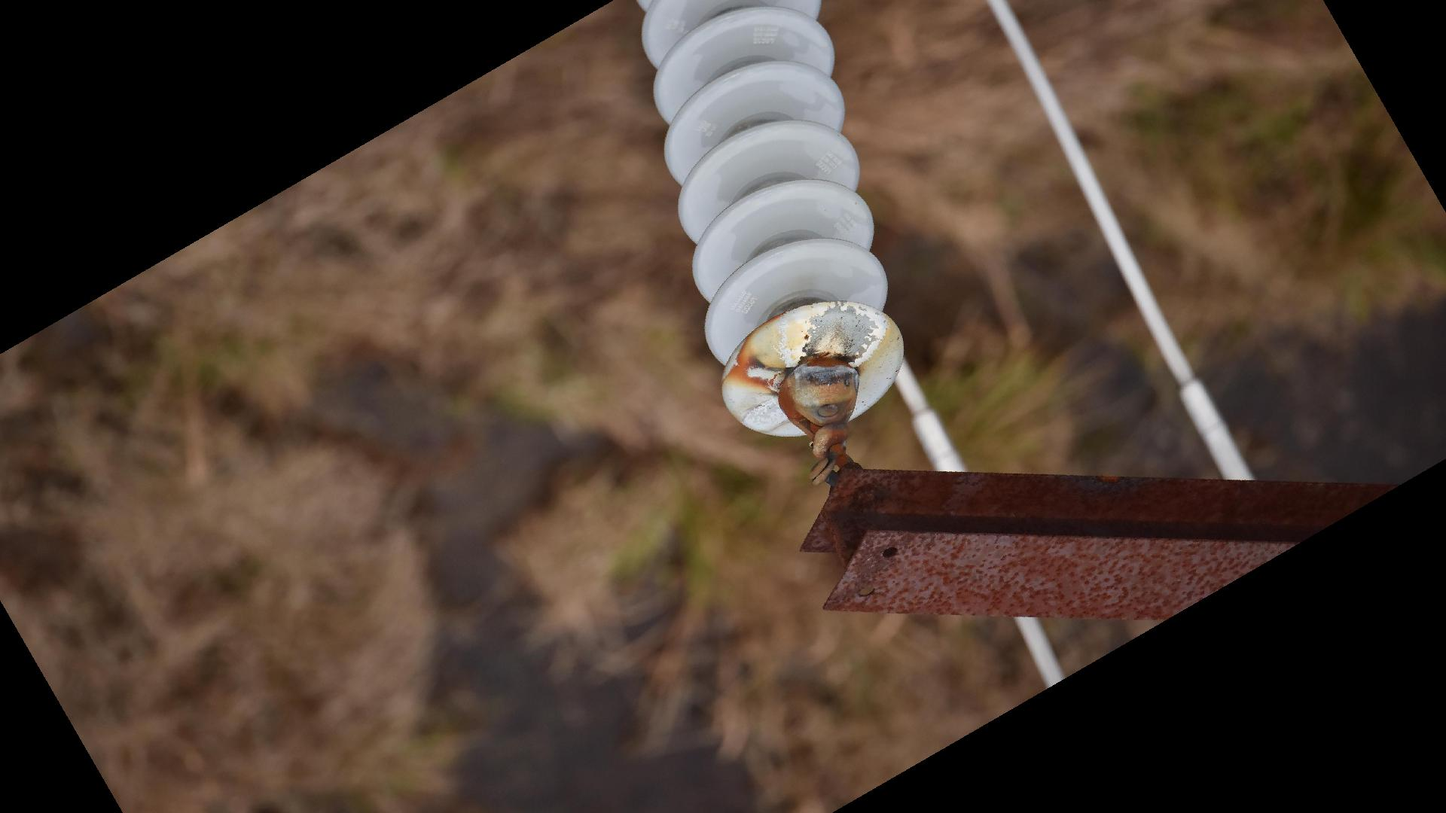insulator: (632, 1, 911, 448)
insulator_flashover: (798, 296, 889, 364)
